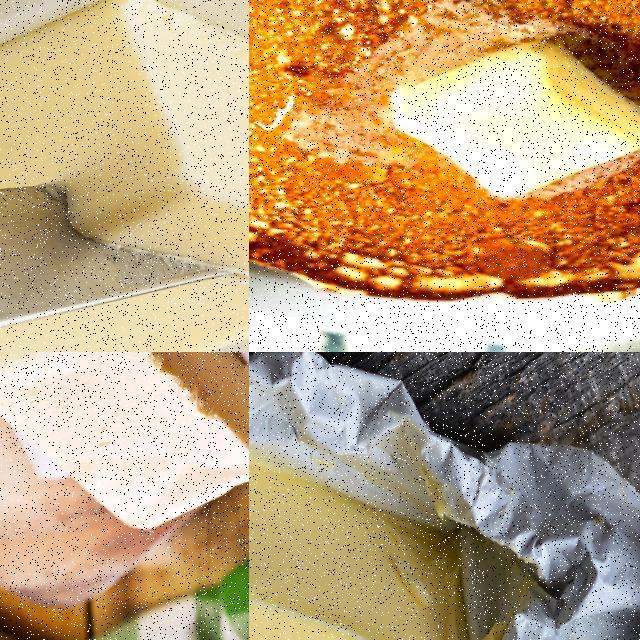Butter: (0, 0, 248, 351), (249, 450, 510, 639), (0, 352, 248, 537), (379, 38, 639, 207)
